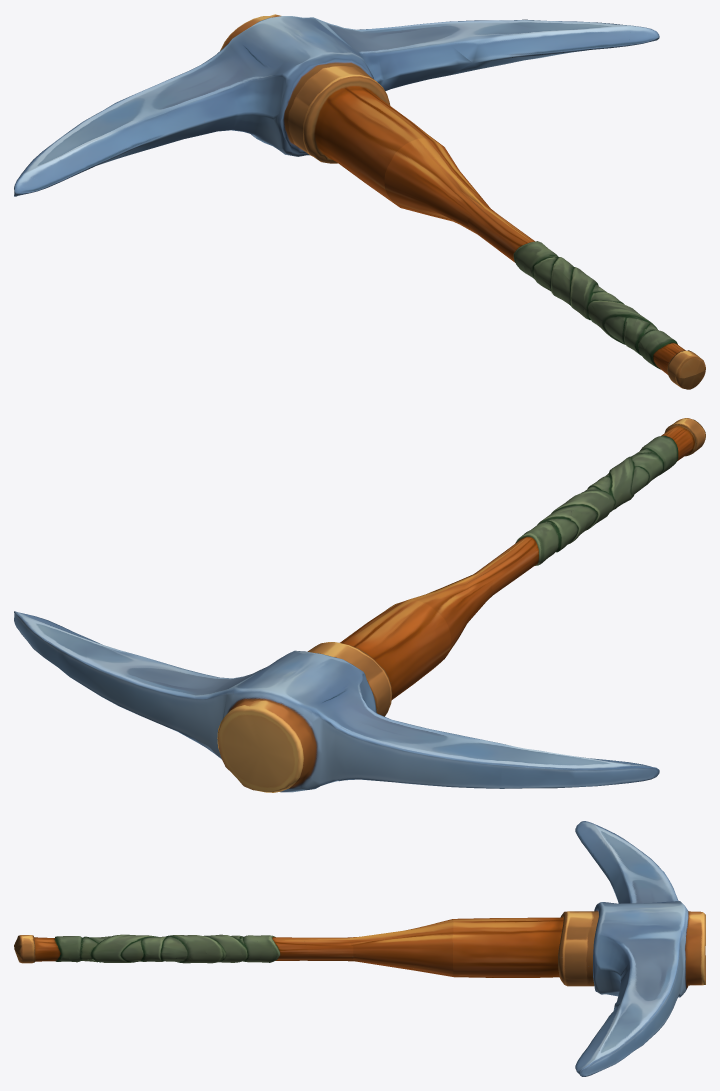
Rendered from Tool_Pickaxe_Stone.fbx.
3 views of the same model, one above another, from view 1: azimuth 30°, elevation 25°; view 2: azimuth 150°, elevation 25°; view 3: azimuth 270°, elevation 25° (orthographic). The views are drawn at different scales.
Parts seen in each view (by area): view 1: Tool_Pickaxe_Stone; view 2: Tool_Pickaxe_Stone; view 3: Tool_Pickaxe_Stone.
Boxes of the visible parts, left/top/right/bottom form: Tool_Pickaxe_Stone: left=14, top=14, right=705, bottom=389; Tool_Pickaxe_Stone: left=14, top=418, right=705, bottom=792; Tool_Pickaxe_Stone: left=14, top=821, right=705, bottom=1076.
Bounding box in the file's own units: 0.4267 × 0.0632 × 0.5.
